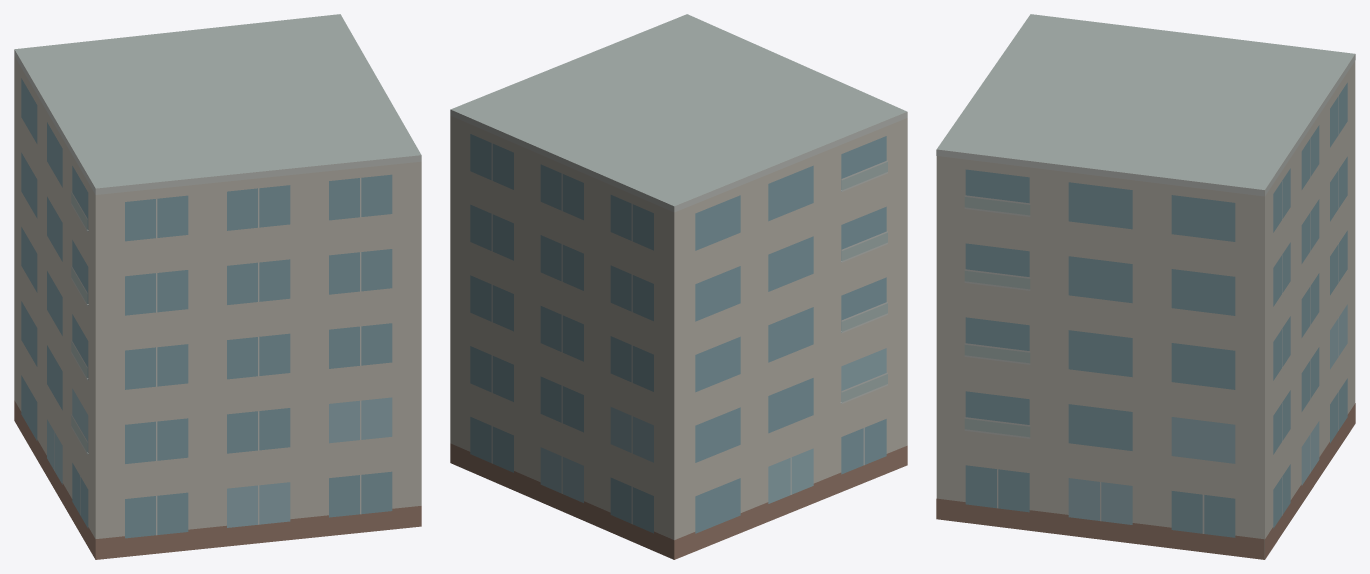
The model's file is survey-upis-32653330.glb.
The picture shows the model from 3 angles, left to right: view 1: azimuth 30°, elevation 25°; view 2: azimuth 150°, elevation 25°; view 3: azimuth 270°, elevation 25°; orthographic projection. The views are drawn at different scales.
Parts seen in each view (by area): view 1: survey-upis-32653330.tmp; view 2: survey-upis-32653330.tmp; view 3: survey-upis-32653330.tmp.
Boxes of the visible parts, x1,y1,x2,y2 form: survey-upis-32653330.tmp: (14, 14, 421, 559); survey-upis-32653330.tmp: (450, 14, 907, 559); survey-upis-32653330.tmp: (936, 14, 1355, 559).
Bounding box in the file's own units: 14.31 × 14 × 14.39.
